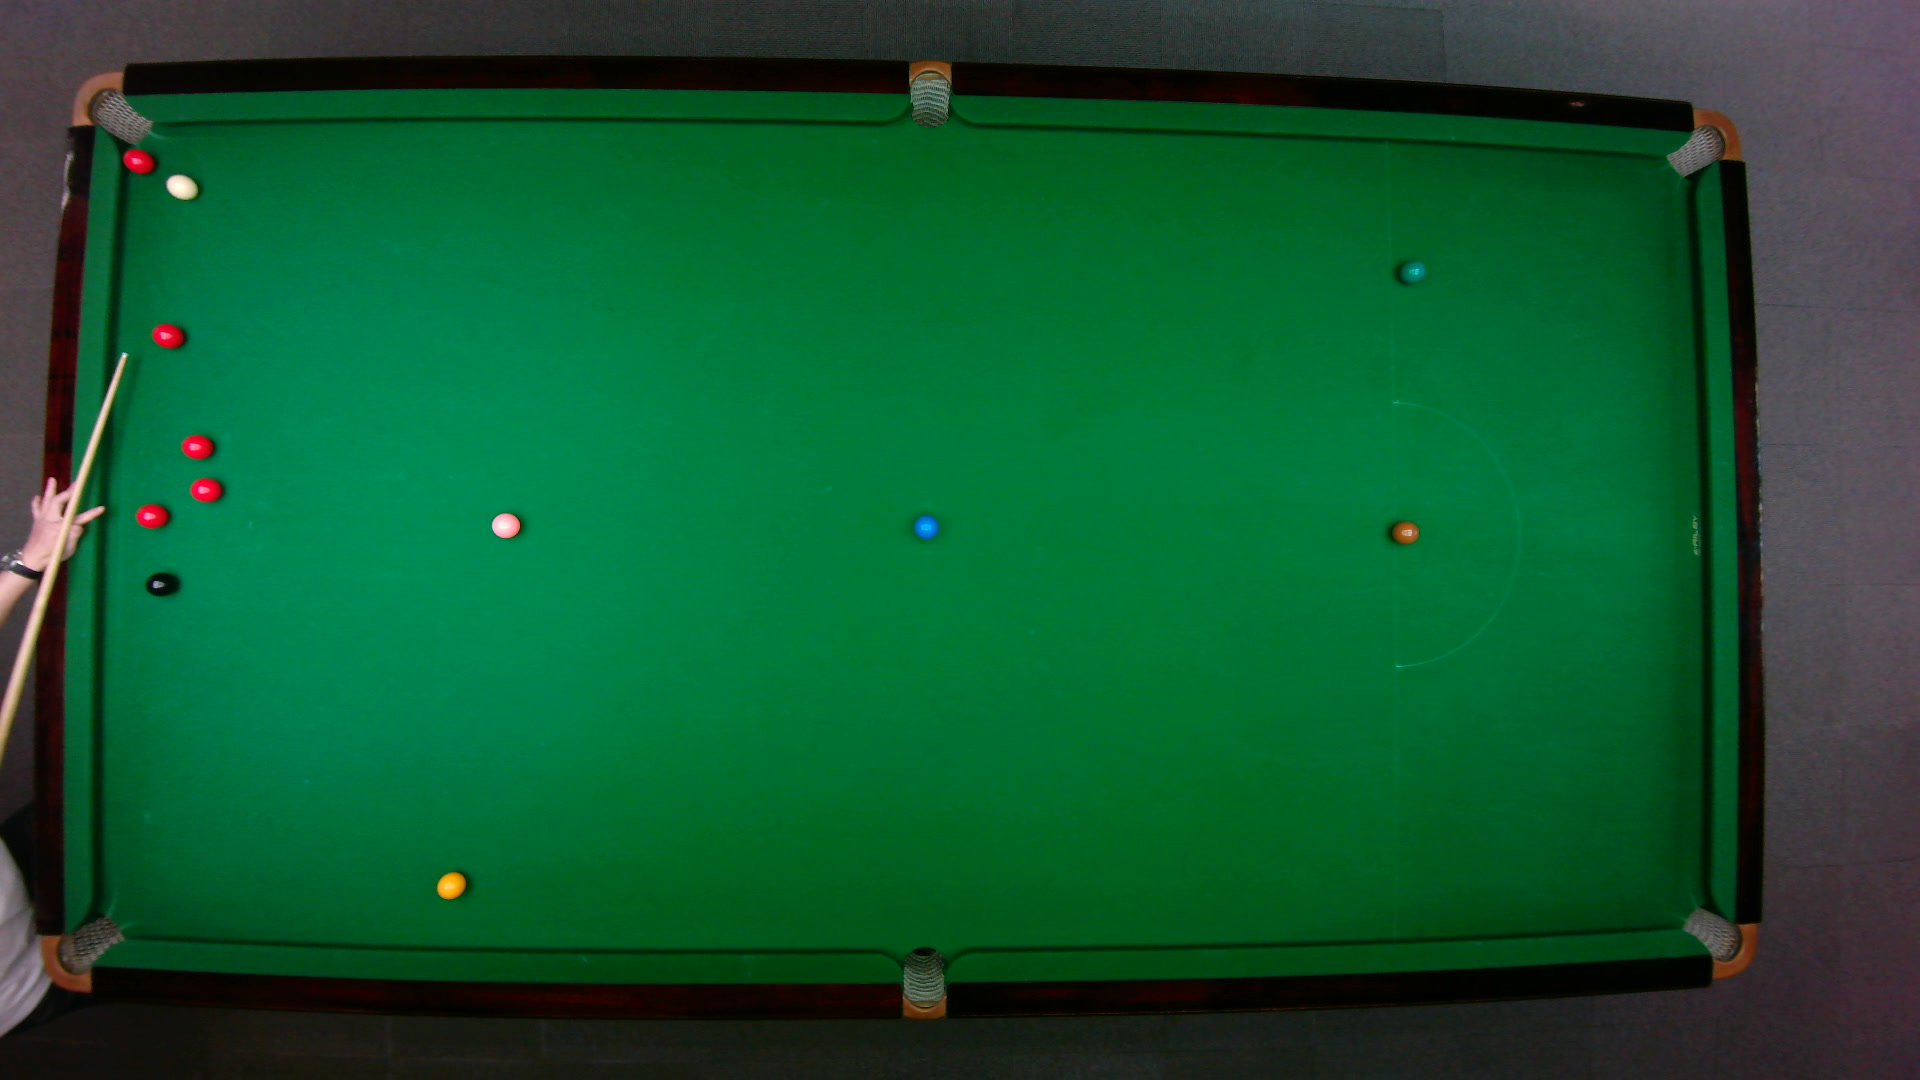bag: (69, 70, 156, 146), (42, 913, 125, 992), (1680, 905, 1760, 980), (1664, 107, 1741, 179), (902, 945, 945, 1021), (909, 59, 952, 129)
black: (142, 571, 175, 597)
blue: (913, 513, 940, 541)
brown: (1390, 520, 1422, 546)
cue: (0, 351, 131, 770)
green: (1396, 258, 1427, 285)
pink: (489, 512, 522, 541)
red: (179, 433, 216, 462), (133, 502, 171, 530), (121, 146, 157, 175), (189, 476, 224, 504), (150, 322, 186, 349)
white: (164, 171, 200, 202)
yellow: (434, 869, 468, 901)
zone: (1391, 401, 1520, 669)
